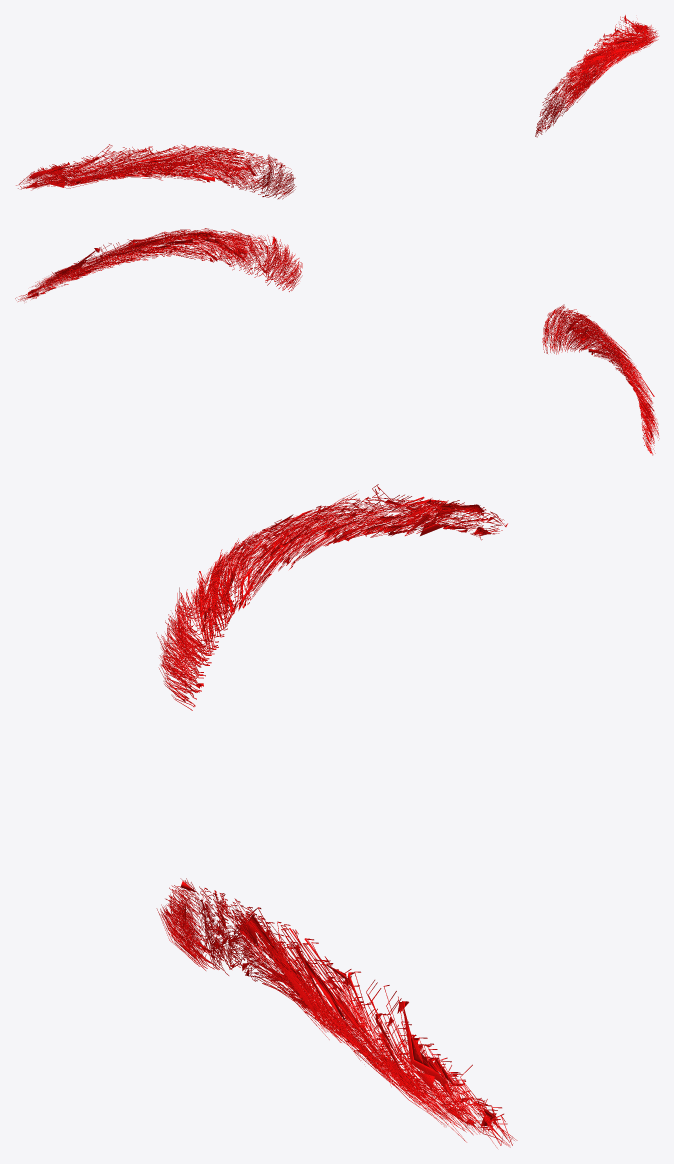
Rendered from mindfront_eyebrows_14_M.glb.
The picture shows the model from 3 angles, top to bottom: view 1: azimuth 30°, elevation 25°; view 2: azimuth 150°, elevation 25°; view 3: azimuth 270°, elevation 25°; orthographic projection. The views are drawn at different scales.
Bounding box in the file's own units: 0.1236 × 0.0114 × 0.0303.
1 material, 1 textured.
